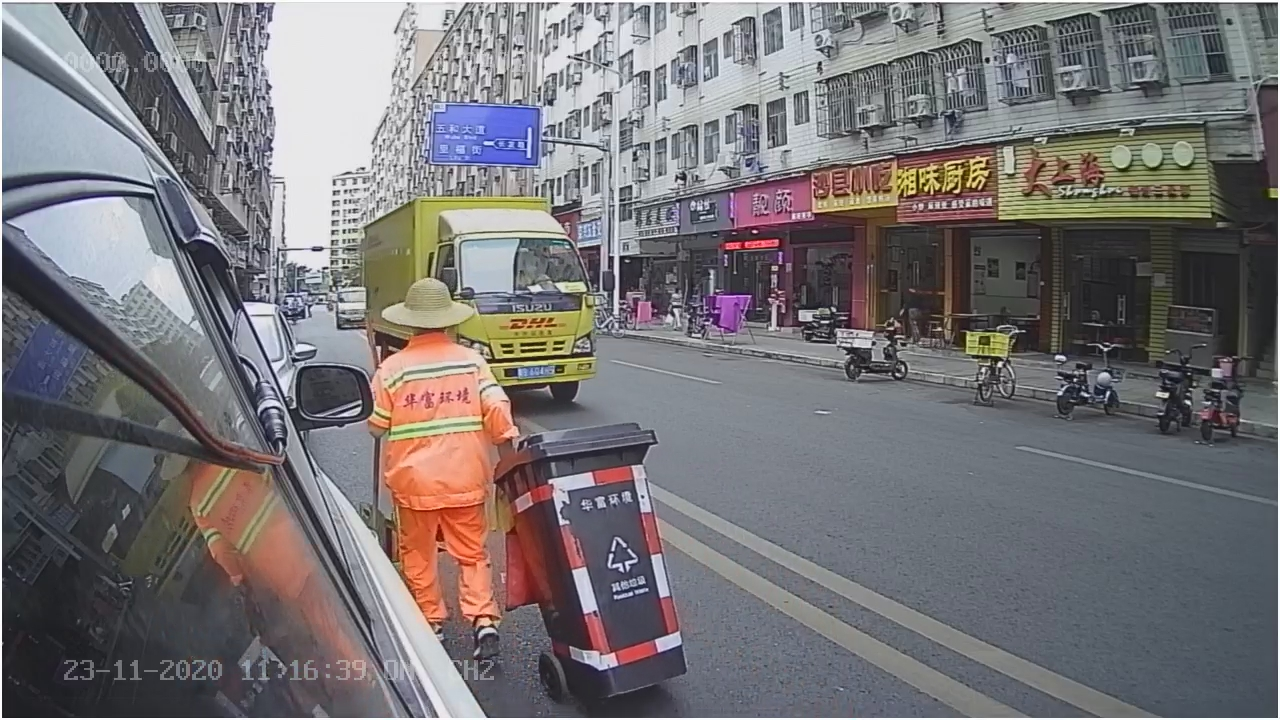person: (375, 273, 520, 451)
